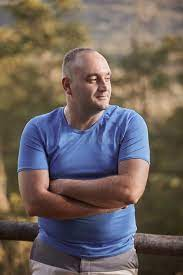height_frame: (16, 47, 153, 275)
hip_frame: (31, 247, 136, 252)
shoulder_frame: (27, 113, 141, 120)
waist_frame: (41, 204, 135, 213)
